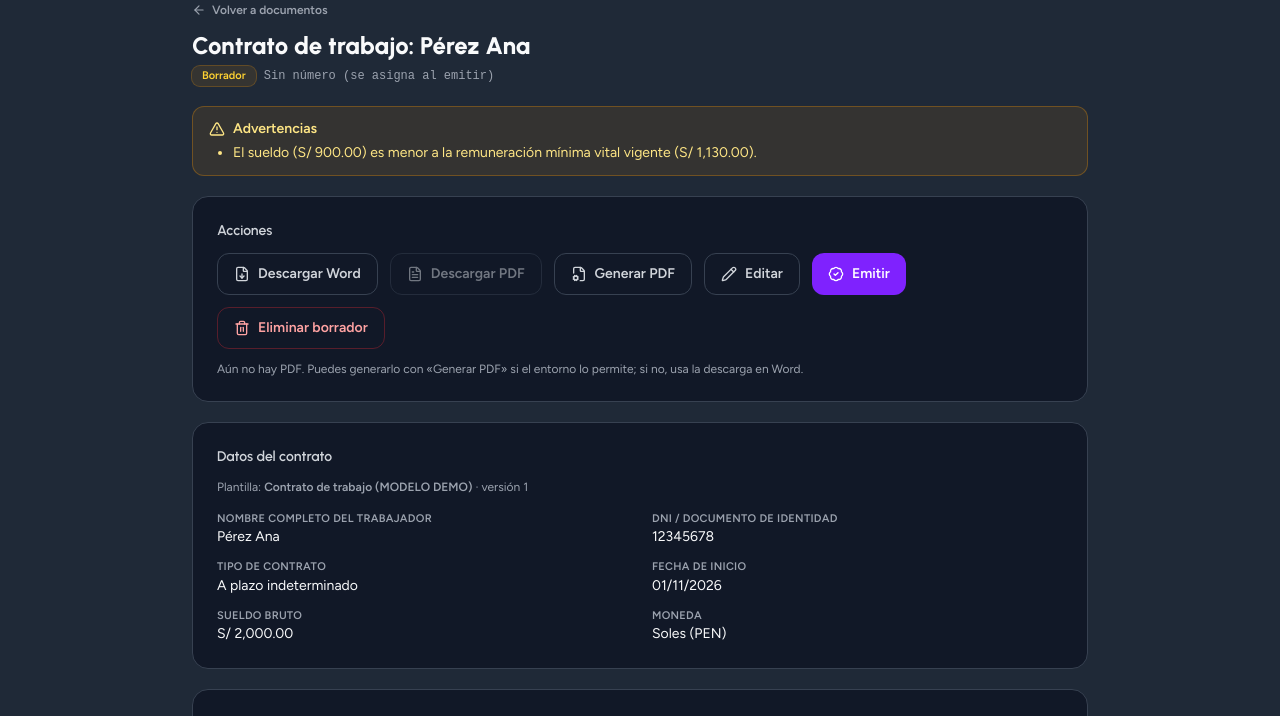
Scenario: Emitir › 409 invalid_state: mantiene el diálogo con el mensaje es-PE y refresca el documento
Click the button "Emitir" at (859, 274), box [812,253,906,295]
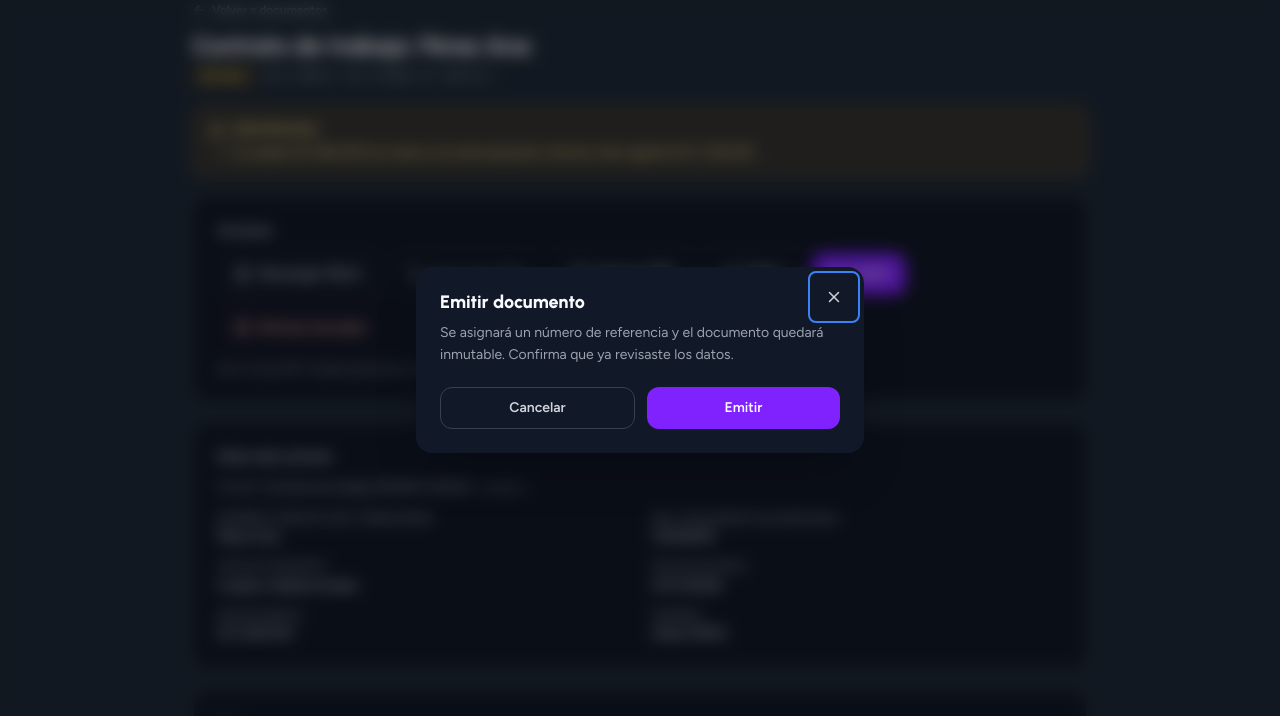
Click the button "Emitir" at (744, 408), box [647,387,840,429]
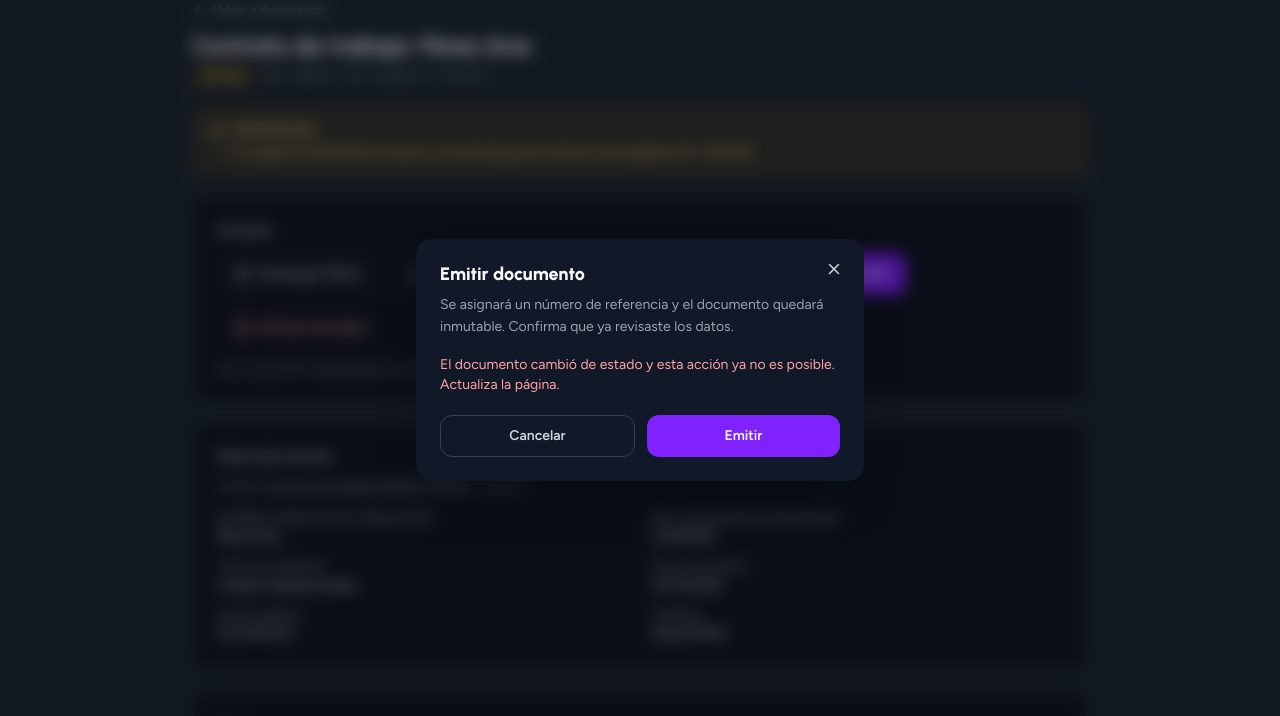
Check: the button "Emitir" is enabled, box [647,415,840,457]
Check: the text "cambió de estado" is shown, box [440,356,835,393]
